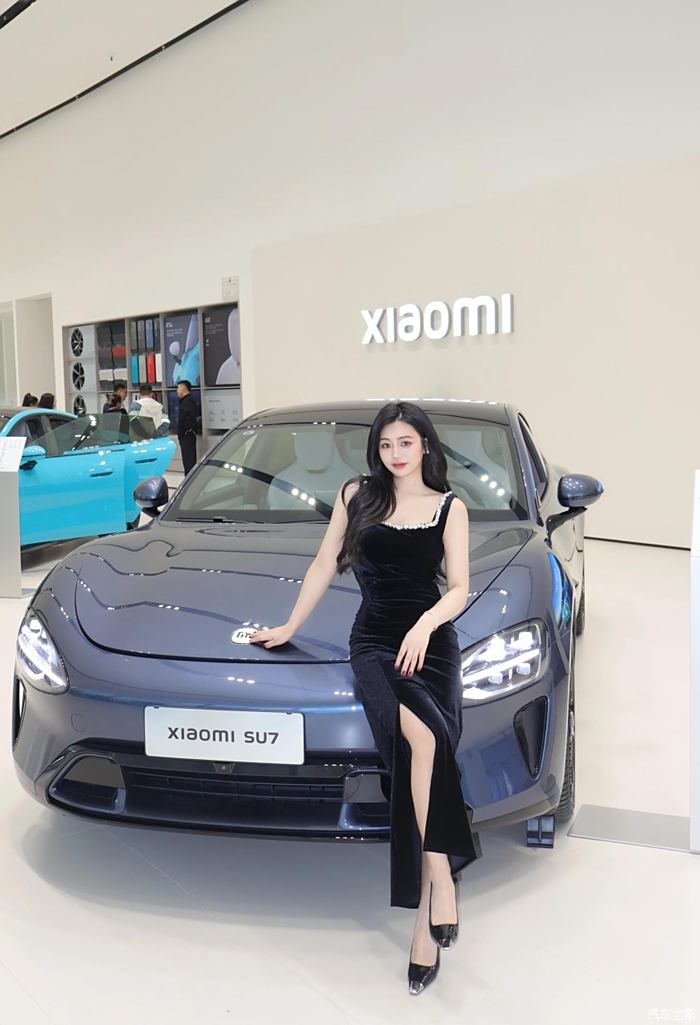su7: (31, 402, 622, 852)
